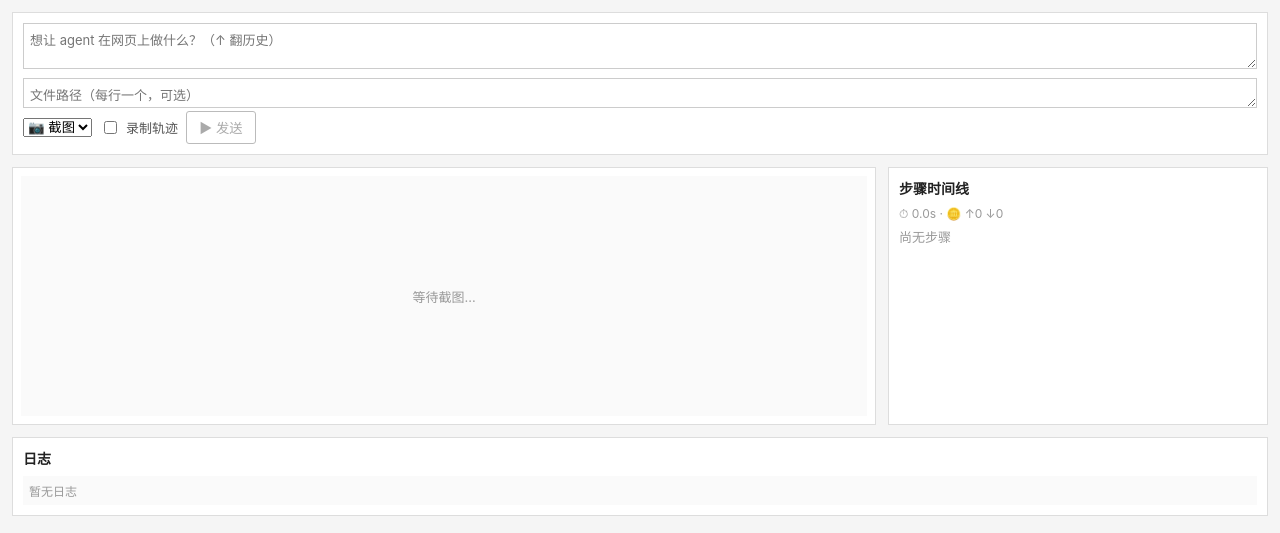
Test case: RunView (P6 M3) › skill_active 事件 → 显示活动技能 chip（I1）
Type "x" into the text box with placeholder "想让 agent 在网页上做什么？（↑ 翻历史）" at (640, 46), box [23, 23, 1257, 69]
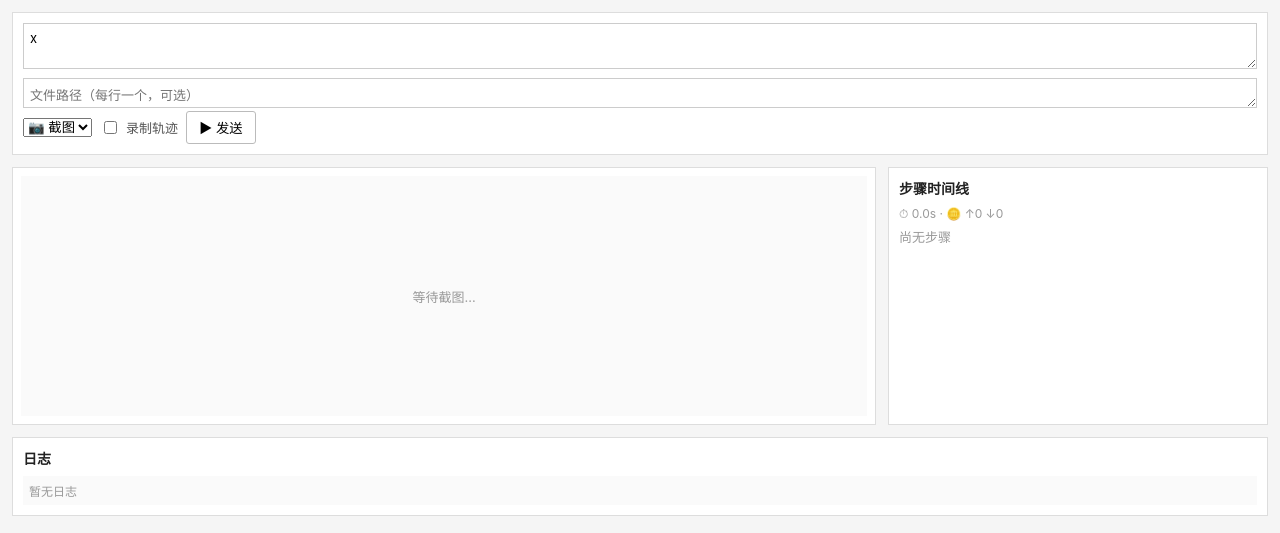
Click the button "▶ 发送" at (221, 128), box [186, 111, 256, 144]
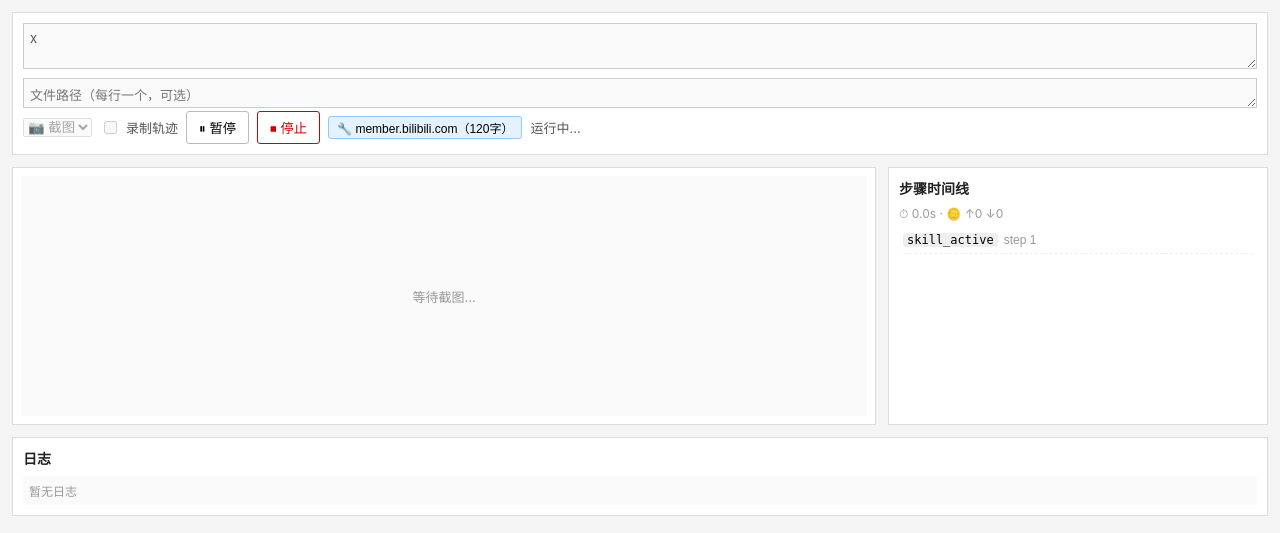
Check: the text "member.bilibili.com" is shown, box [328, 116, 522, 139]
Check: the text "120字" is shown, box [328, 116, 522, 139]
